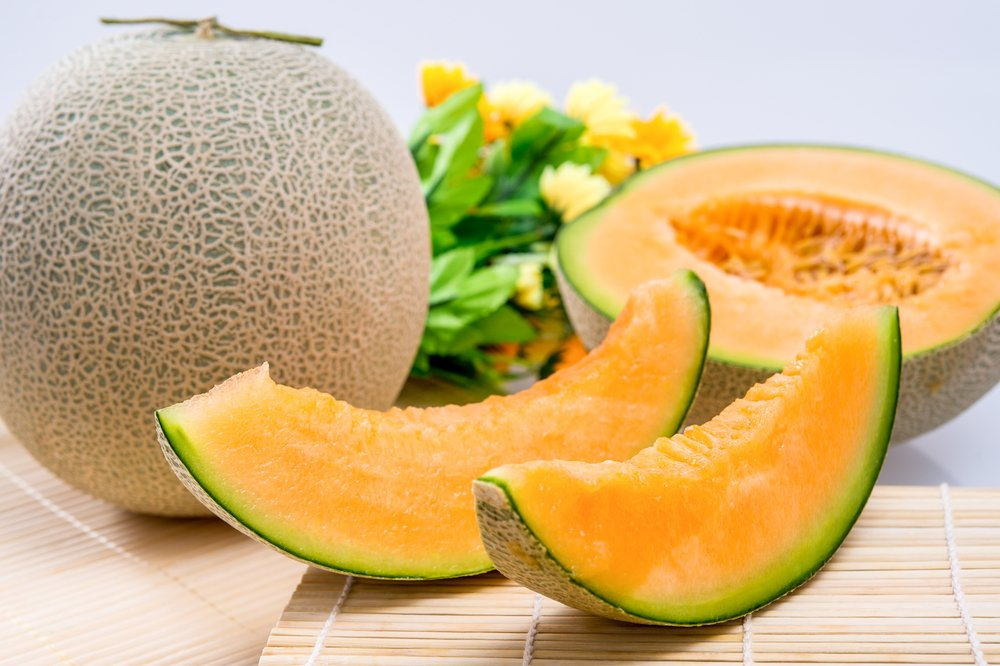Melon: (206, 247, 707, 578), (541, 318, 926, 666)
